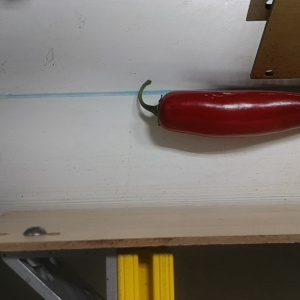Cut Point: (147, 90, 179, 131)
